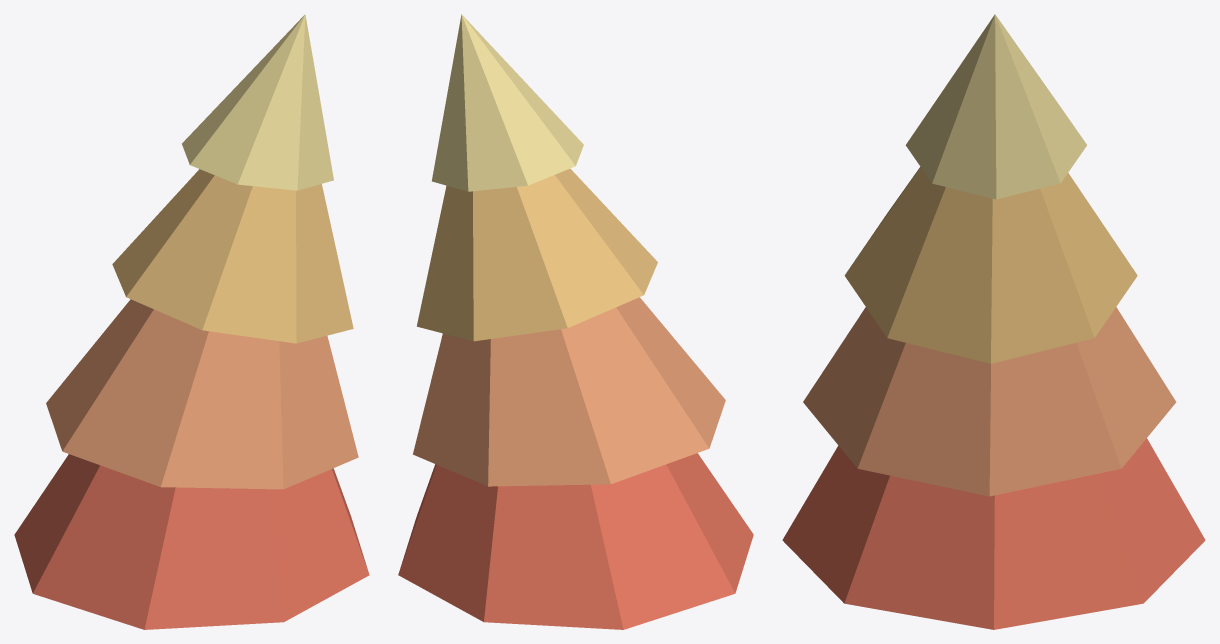
File: 01_01Tree_Red.fbx
3 renders of one model, left to right at view 1: azimuth 30°, elevation 25°; view 2: azimuth 150°, elevation 25°; view 3: azimuth 270°, elevation 25°, orthographic. The views are drawn at different scales.
Parts seen in each view (by area): view 1: Cone.001; view 2: Cone.001; view 3: Cone.001.
Part boxes in pixels (<box>): Cone.001: <box>14,14,369,629</box>; Cone.001: <box>398,14,753,629</box>; Cone.001: <box>782,14,1205,629</box>.
Bounding box in the file's own units: 125 × 192 × 125.
